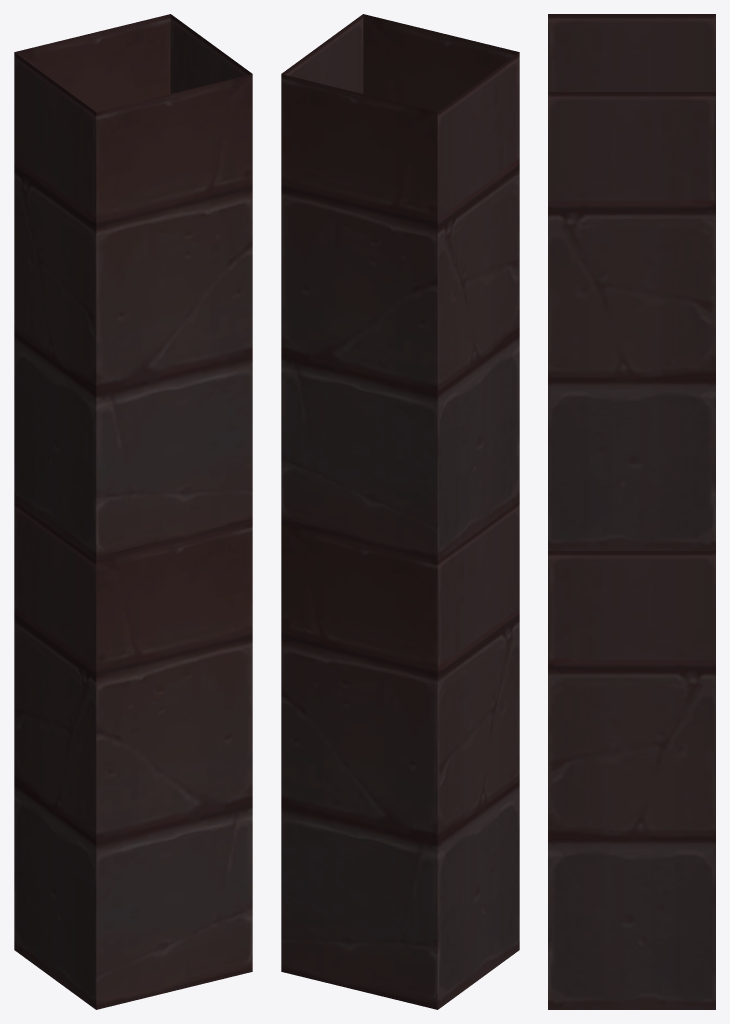
The model's file is sn_jixie_zhuzi_003.FBX.
3 renders of one model, left to right at view 1: azimuth 30°, elevation 25°; view 2: azimuth 150°, elevation 25°; view 3: azimuth 270°, elevation 25°, orthographic. The views are drawn at different scales.
Visible parts, largest first — view 1: sn_jixie_zhuzi_003; view 2: sn_jixie_zhuzi_003; view 3: sn_jixie_zhuzi_003.
Boxes of the visible parts, left/top/right/bottom form: sn_jixie_zhuzi_003: left=14, top=14, right=252, bottom=1009; sn_jixie_zhuzi_003: left=281, top=14, right=519, bottom=1009; sn_jixie_zhuzi_003: left=548, top=14, right=715, bottom=1009.
Bounding box in the file's own units: 3.44 × 3.12 × 18.86.
